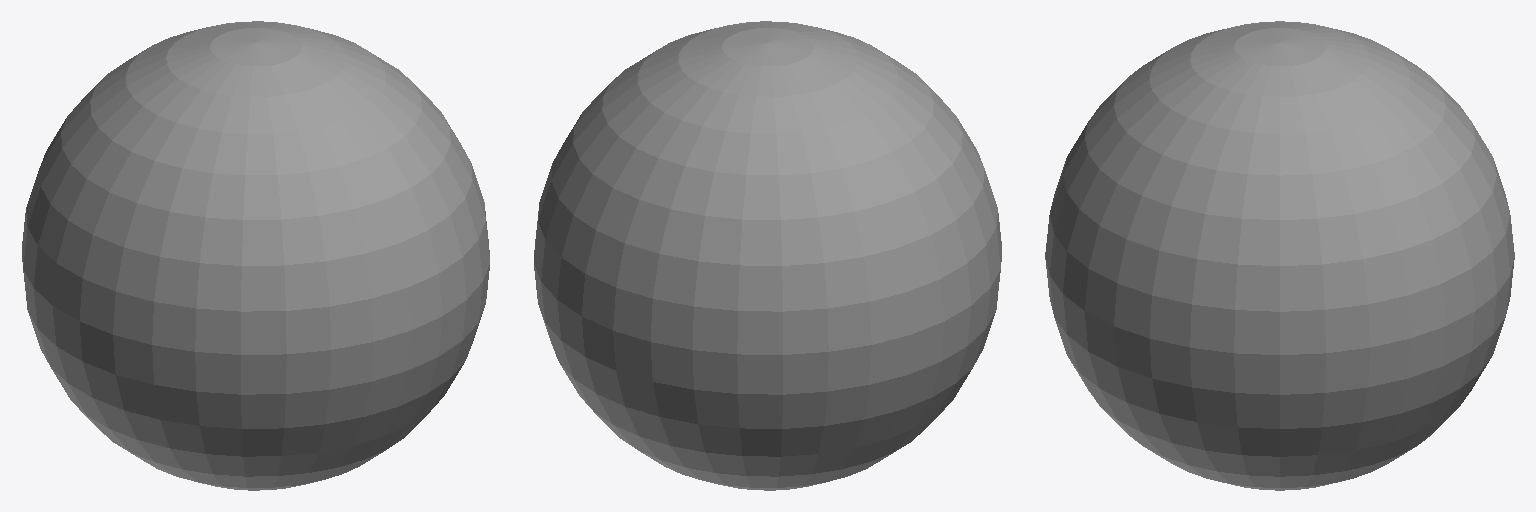
File: env_sphere.obj
3 renders of one model, left to right at view 1: azimuth 30°, elevation 25°; view 2: azimuth 150°, elevation 25°; view 3: azimuth 270°, elevation 25°, orthographic.
Visible parts, largest first — view 1: Cylinder_Cylinder.001; view 2: Cylinder_Cylinder.001; view 3: Cylinder_Cylinder.001.
Boxes of the visible parts, x1=… form: Cylinder_Cylinder.001: x1=22, y1=21, x2=489, y2=490; Cylinder_Cylinder.001: x1=534, y1=21, x2=1001, y2=490; Cylinder_Cylinder.001: x1=1045, y1=21, x2=1514, y2=490.
Bounding box in the file's own units: 400 × 401 × 400.